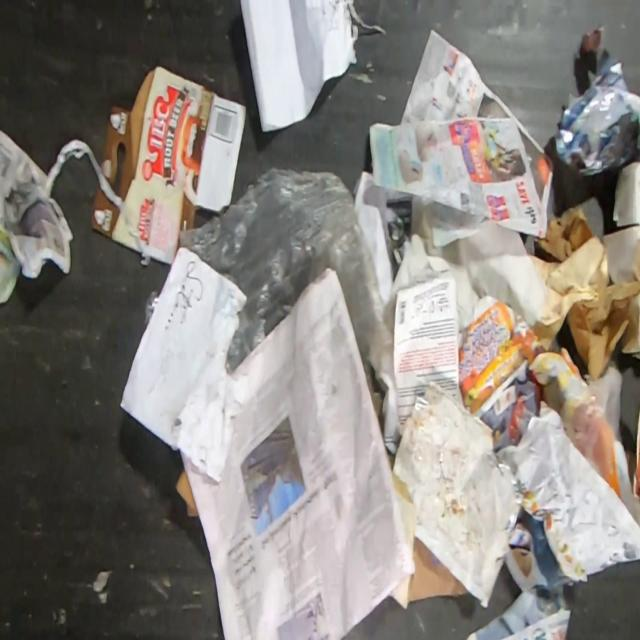cardboard: (98, 63, 250, 267), (601, 160, 640, 362), (409, 535, 475, 602), (90, 177, 141, 253), (172, 467, 201, 521), (631, 397, 640, 502)
soft_plastic: (180, 164, 394, 380), (558, 365, 624, 485), (142, 289, 162, 332)
